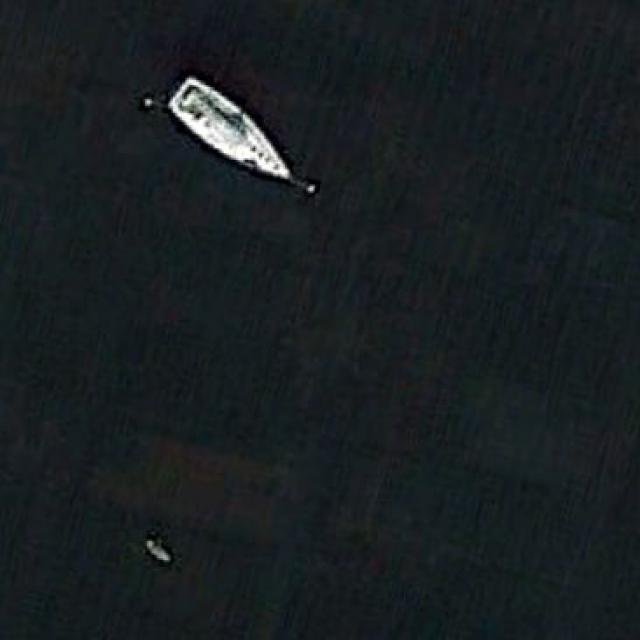boat: (162, 73, 294, 184)
